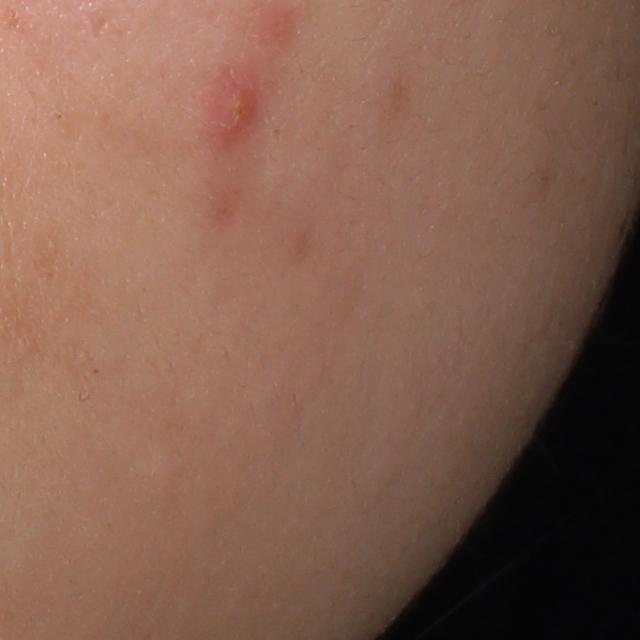atrophic_scar: (90, 9, 111, 45)
papule: (208, 67, 265, 142)
